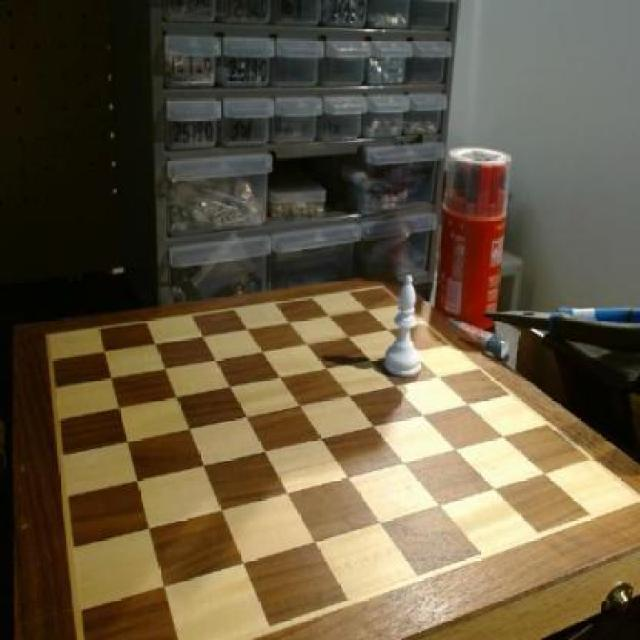black-rook: (383, 268, 429, 383)
